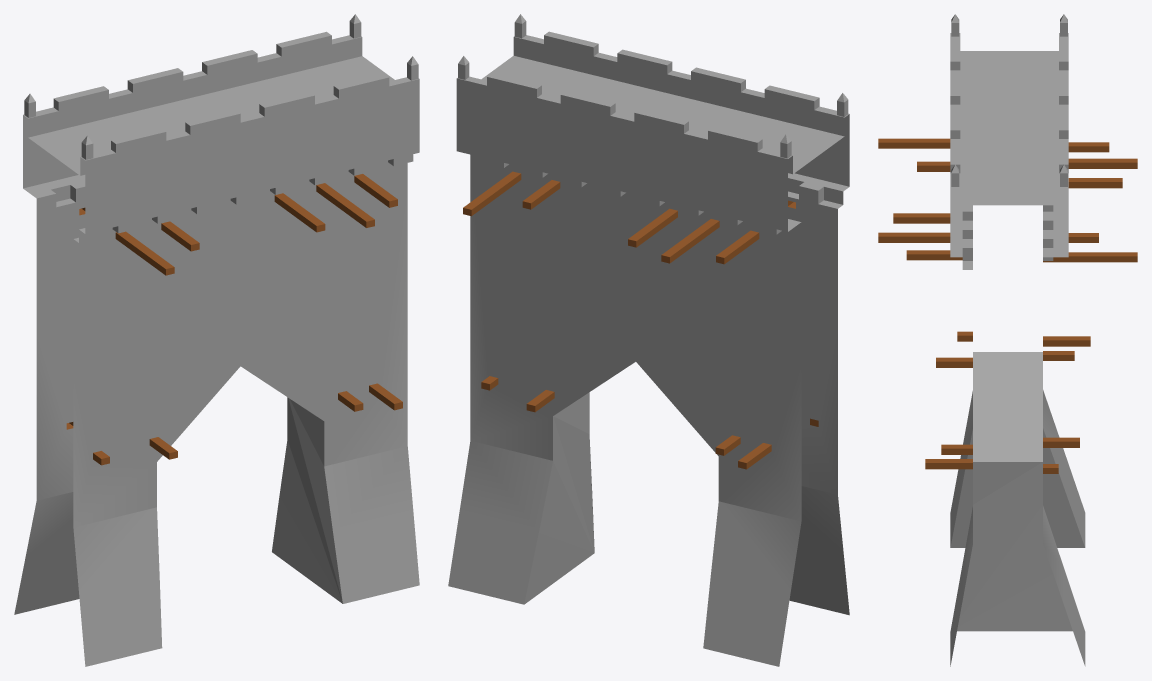
File: Building_Fortress_Castle_Wall_Opening_Large_03.fbx
3 views of the same model, side by side, from view 1: azimuth 30°, elevation 25°; view 2: azimuth 150°, elevation 25°; view 3: azimuth 270°, elevation 25° (orthographic). The views are drawn at different scales.
Parts seen in each view (by area): view 1: Building_Fortress_Castle_Wall_Opening_Large_03; view 2: Building_Fortress_Castle_Wall_Opening_Large_03; view 3: Building_Fortress_Castle_Wall_Opening_Large_03.
Part boxes in pixels (box(x1,y1,x2,y2)): Building_Fortress_Castle_Wall_Opening_Large_03: box(14, 14, 419, 666); Building_Fortress_Castle_Wall_Opening_Large_03: box(448, 14, 849, 666); Building_Fortress_Castle_Wall_Opening_Large_03: box(878, 14, 1137, 666).
Bounding box in the file's own units: 7689 × 11616 × 5458.
